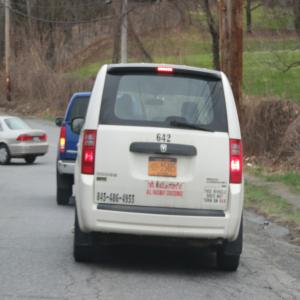Vehicle-registration-plate: (150, 156, 179, 176)
